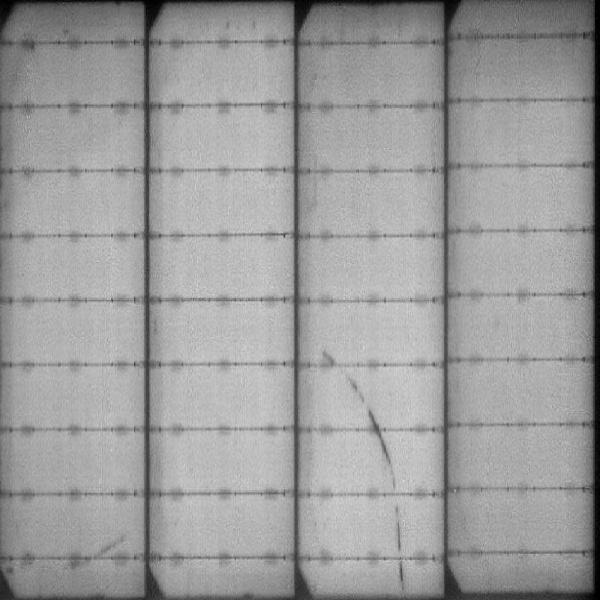scratch: (344, 368, 380, 428), (370, 430, 402, 489), (90, 532, 139, 556), (394, 503, 404, 589)
